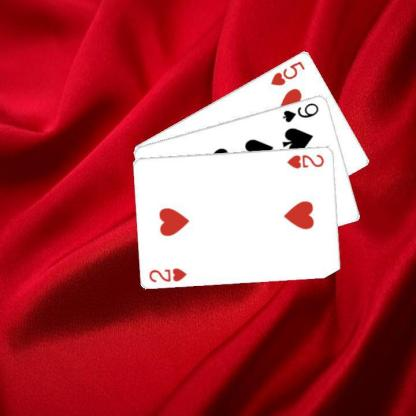2H: (285, 152, 326, 170), (147, 265, 188, 283)
5H: (268, 58, 306, 86)
9S: (280, 100, 320, 124)
